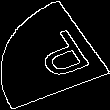P_SE: (18, 24, 92, 86)
